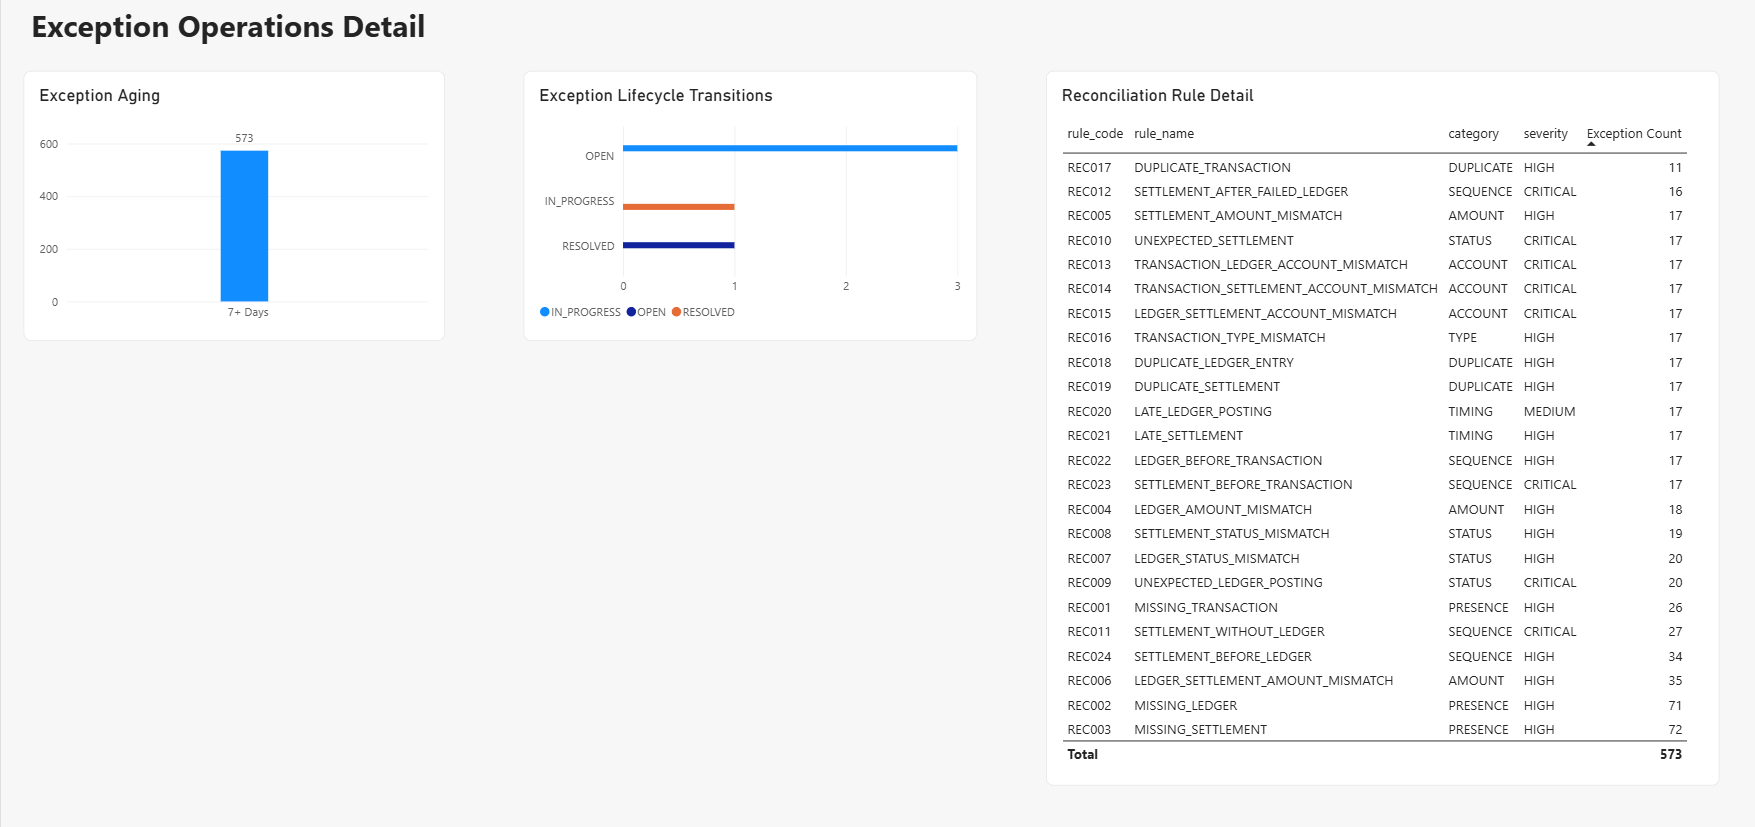

This screenshot's page, from the dashboard's own definition file:
{"tool":"powerbi","page":{"name":"Operations Detail","canvas":[1920,1080],"ordinal":1},"visuals":[{"type":"textbox","box":[31.9,8,434.6,54.5],"z":0},{"type":"clusteredColumnChart","title":"Exception Aging","fields":{"Category":["Exception Aging.aging_bucket"],"Y":["Sum(Exception Aging.exception_count)"]},"box":[23.9,78.4,447.8,287],"z":1000},{"type":"clusteredBarChart","title":"Exception Lifecycle Transitions","fields":{"Category":["Exception Lifecycle.old_status"],"Series":["Exception Lifecycle.new_status"],"Y":["Sum(Exception Lifecycle.transition_count)"]},"box":[555.5,78.4,482.4,287],"z":2000},{"type":"tableEx","title":"Reconciliation Rule Detail","fields":{"Values":["Exception Rules.rule_code","Exception Rules.rule_name","Exception Rules.category","Exception Rules.severity","Sum(Exception Rules.exception_count)"]},"box":[1111,78.4,716.3,760.1],"z":3000}]}

Visuals, with their boxes on the page's 1920x1080 design canvas (x1, y1, x2, y2). These are canvas units, not pixel positions in the 1755x827 screenshot, which may show the page scaled, cropped or inside an application window:
textbox: rect(32, 8, 466, 62)
"Exception Aging" clusteredColumnChart: rect(24, 78, 472, 365)
"Exception Lifecycle Transitions" clusteredBarChart: rect(556, 78, 1038, 365)
"Reconciliation Rule Detail" tableEx: rect(1111, 78, 1827, 838)
